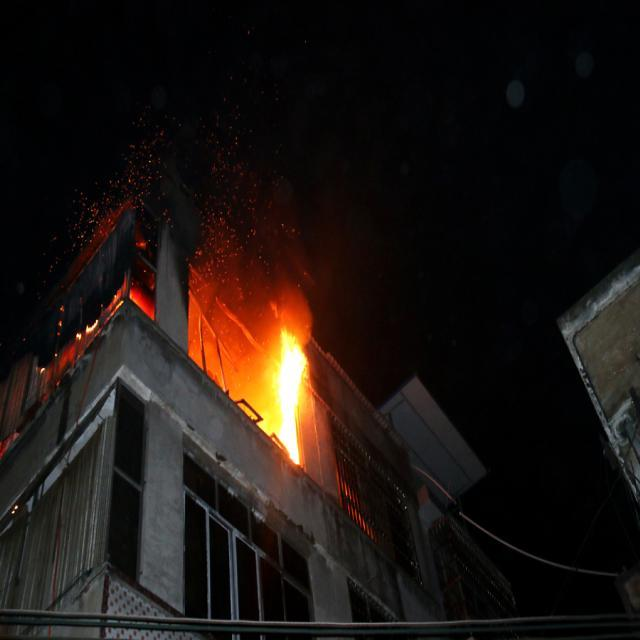Fire: (274, 324, 308, 466)
